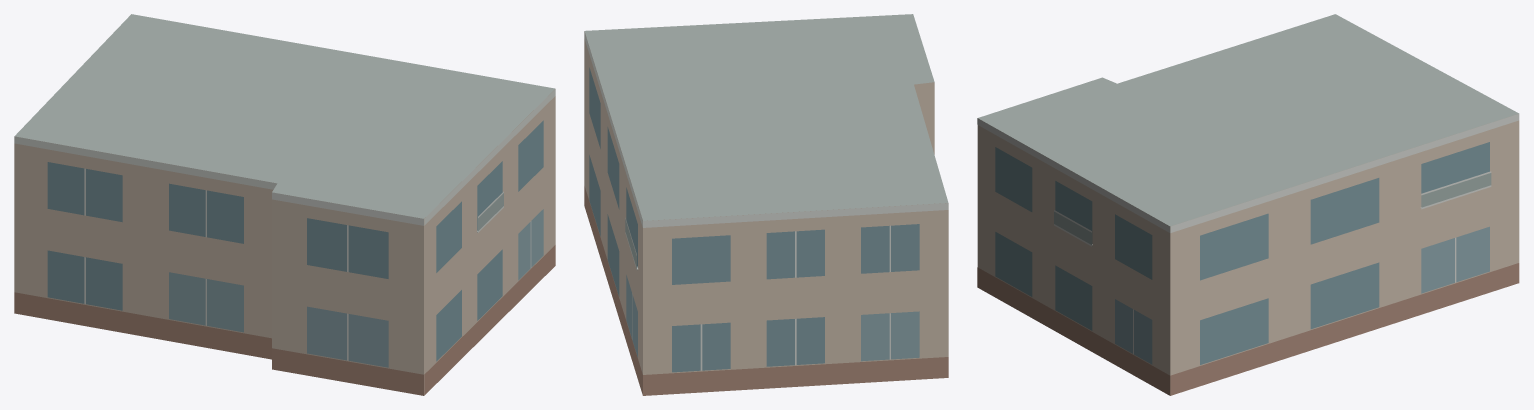
The model's file is survey-upis-32848919.glb.
The picture shows the model from 3 angles, left to right: view 1: azimuth 30°, elevation 25°; view 2: azimuth 150°, elevation 25°; view 3: azimuth 270°, elevation 25°; orthographic projection. The views are drawn at different scales.
Parts seen in each view (by area): view 1: survey-upis-32848919.tmp; view 2: survey-upis-32848919.tmp; view 3: survey-upis-32848919.tmp.
Part boxes in pixels (box(x1,y1,x2,y2)): survey-upis-32848919.tmp: box(14, 14, 555, 395); survey-upis-32848919.tmp: box(584, 14, 948, 395); survey-upis-32848919.tmp: box(977, 14, 1519, 395).
Size of the model in its own units: 16.41 by 6.1 by 17.69.
